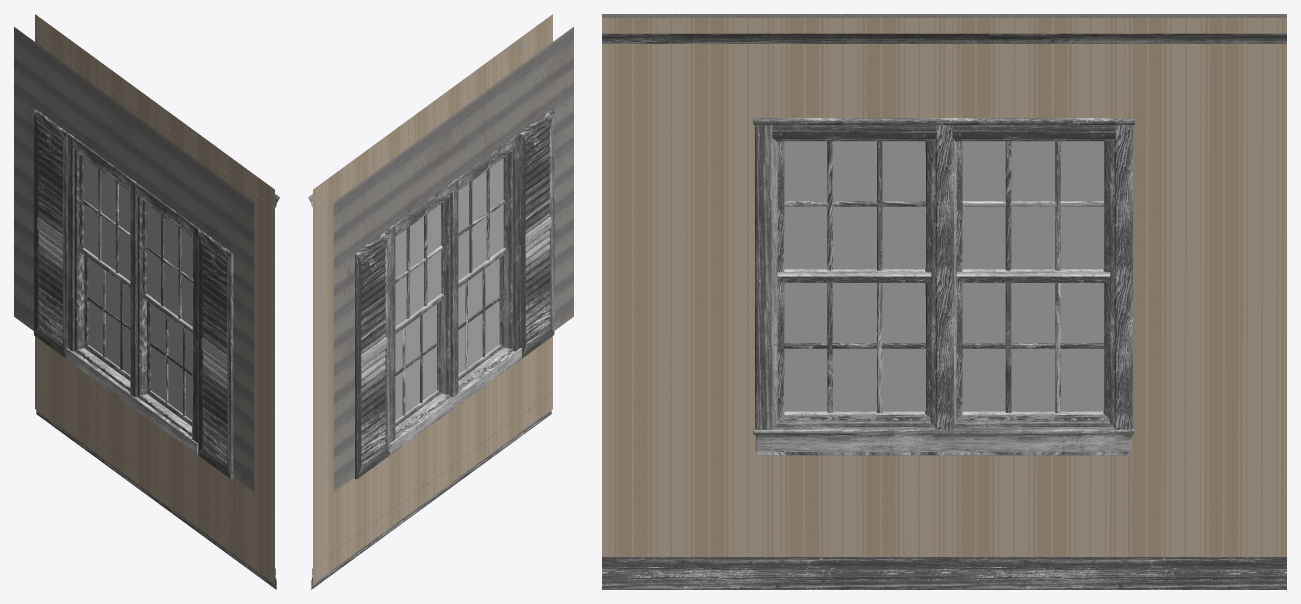
The model's file is SM_Window_Floor2_A3_400.fbx.
The picture shows the model from 3 angles, left to right: view 1: azimuth 30°, elevation 25°; view 2: azimuth 150°, elevation 25°; view 3: azimuth 270°, elevation 25°; orthographic projection. The views are drawn at different scales.
Parts seen in each view (by area): view 1: SM_Window_Floor2_A3_400_LOD0; view 2: SM_Window_Floor2_A3_400_LOD0; view 3: SM_Window_Floor2_A3_400_LOD0.
Boxes of the visible parts, bbox=[...] form: SM_Window_Floor2_A3_400_LOD0: bbox=[14, 14, 279, 589]; SM_Window_Floor2_A3_400_LOD0: bbox=[308, 14, 573, 589]; SM_Window_Floor2_A3_400_LOD0: bbox=[602, 14, 1286, 589].
Bounding box in the file's own units: 19.19 × 280 × 258.
Materials: 6 (5 with a texture image).
